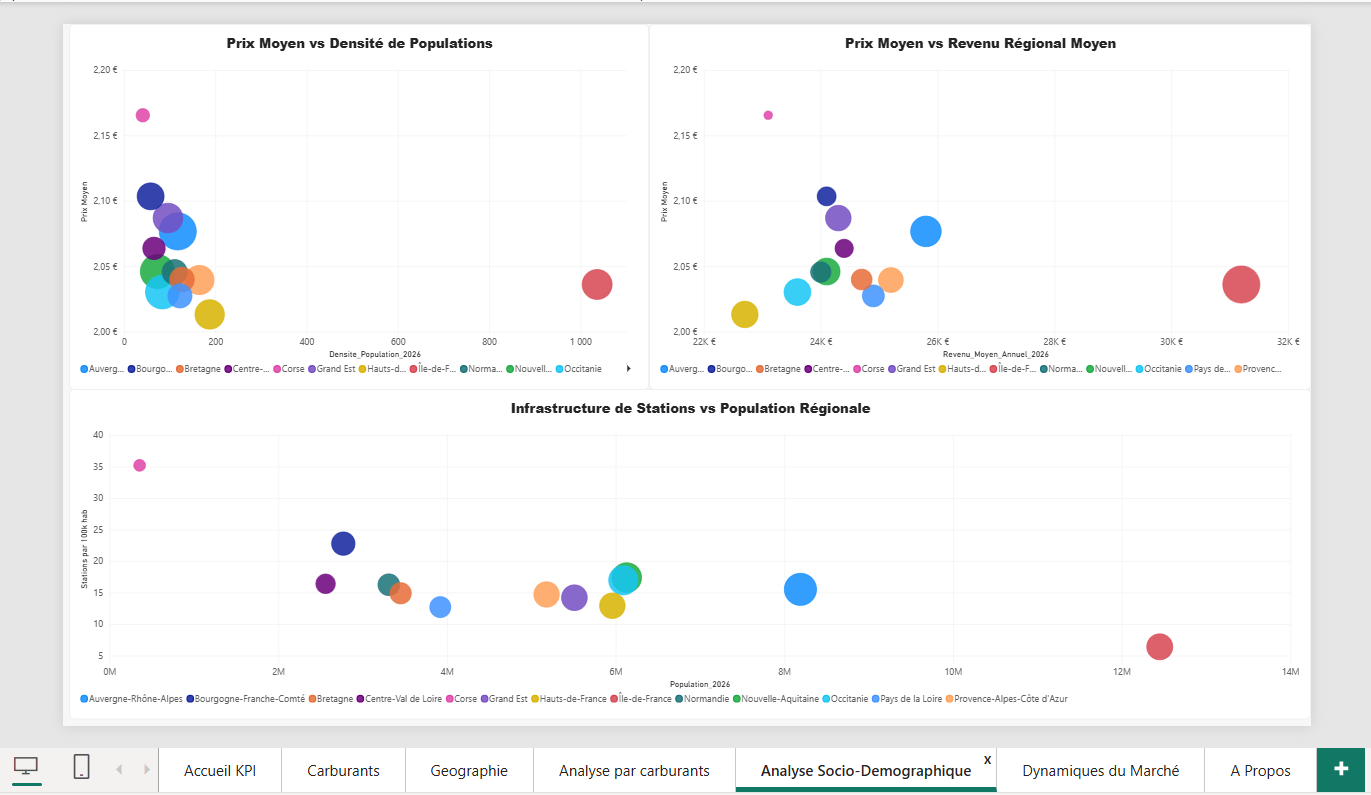

What the dashboard file says about the page in this screenshot:
{"tool":"powerbi","page":{"name":"Analyse Socio-Demographique","canvas":[1920,1080],"ordinal":4},"visuals":[{"type":"scatterChart","title":"Prix Moyen vs Densité de Populations","fields":{"Series":["Dim_Departement.Region"],"Size":["Table.Stations Actives"],"X":["INSEE.Densite_Population_2026"],"Y":["Table.Prix Moyen National"]},"box":[10,0,892,562],"z":0},{"type":"scatterChart","title":"Prix Moyen vs Revenu Régional Moyen","fields":{"Series":["INSEE.Region"],"Size":["Sum(INSEE.Population_2026)"],"X":["INSEE.Revenu_Moyen_Annuel_2026"],"Y":["Table.Prix Moyen National"]},"box":[902,0,1018,562],"z":1000},{"type":"scatterChart","title":"Infrastructure de Stations vs Population Régionale","fields":{"Series":["INSEE.Region"],"Size":["Table.Stations Actives"],"X":["INSEE.Population_2026"],"Y":["Table.Stations par 100k hab"]},"box":[10,562,1910,508],"z":2000}]}

Visuals, with their boxes on the page's 1920x1080 design canvas (x1, y1, x2, y2). These are canvas units, not pixel positions in the 1371x795 screenshot, which may show the page scaled, cropped or inside an application window:
"Prix Moyen vs Densité de Populations" scatterChart: [10,0,902,562]
"Prix Moyen vs Revenu Régional Moyen" scatterChart: [902,0,1920,562]
"Infrastructure de Stations vs Population Régionale" scatterChart: [10,562,1920,1070]
